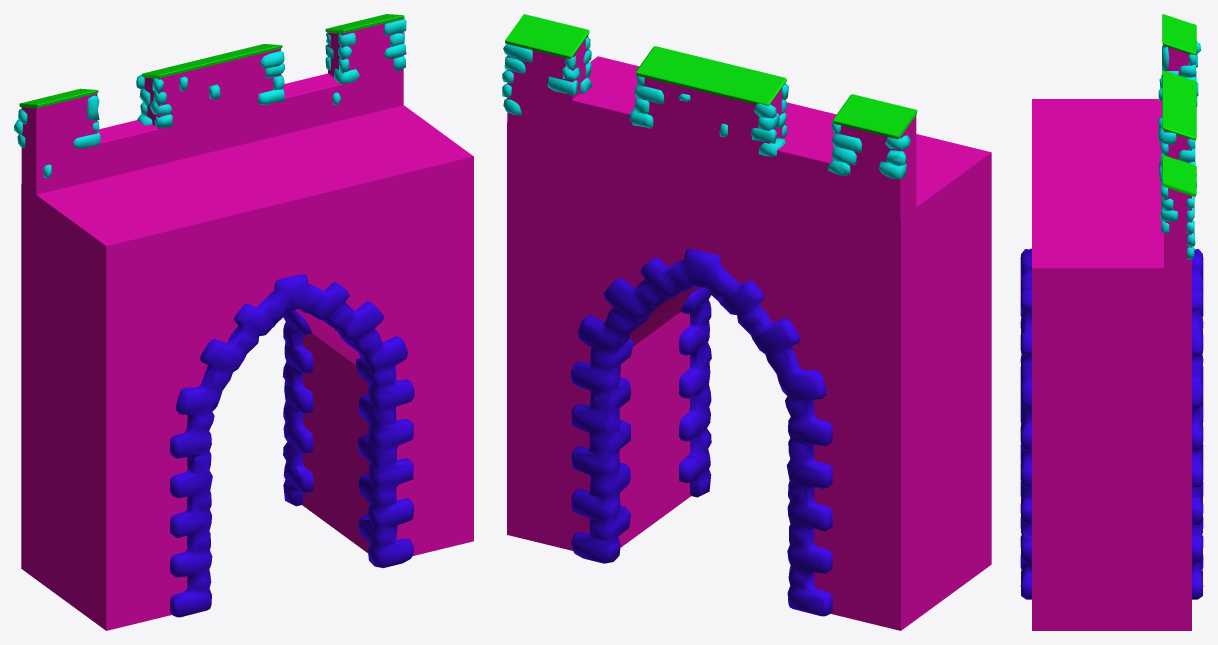
File: Medieval WallDoor.fbx
The picture shows the model from 3 angles, left to right: view 1: azimuth 30°, elevation 25°; view 2: azimuth 150°, elevation 25°; view 3: azimuth 270°, elevation 25°; orthographic projection. The views are drawn at different scales.
Visible parts, largest first — view 1: WallDoor; view 2: WallDoor; view 3: WallDoor.
Boxes of the visible parts, <box> form: WallDoor: <box>14,14,473,630</box>; WallDoor: <box>502,14,991,630</box>; WallDoor: <box>1020,14,1203,630</box>.
Size of what is drawn, in the model's own units: 5.12 by 6.19 by 2.29.
